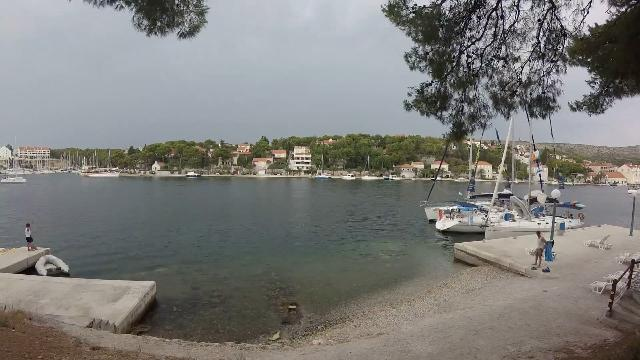Sailboat: (1, 170, 28, 186)
